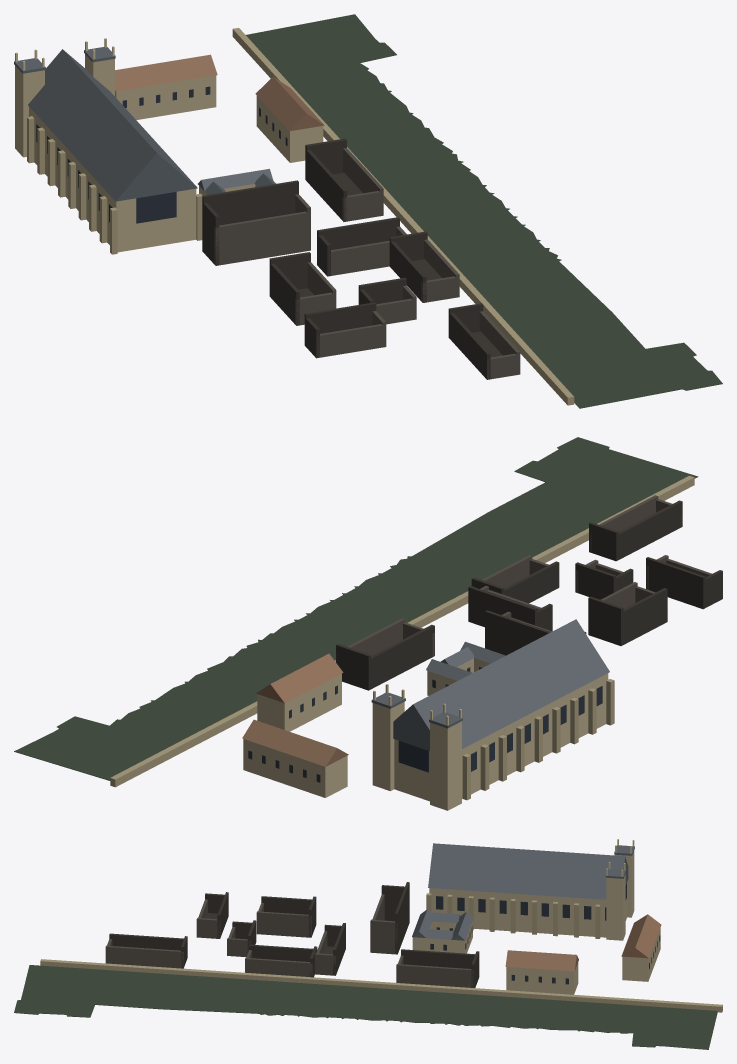
File: westminster-site-b45.glb
3 renders of one model, top to bottom at view 1: azimuth 30°, elevation 25°; view 2: azimuth 150°, elevation 25°; view 3: azimuth 270°, elevation 25°, orthographic. The views are drawn at different scales.
Size of the model in its own units: 138 by 29.5 by 269.
